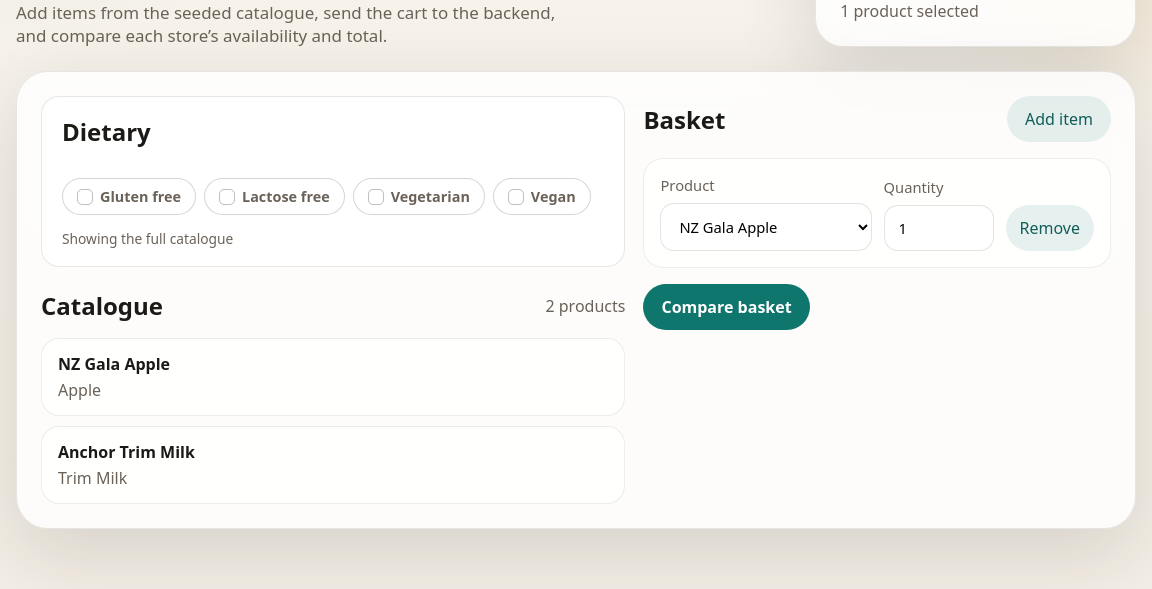
Test: basket comparison › shows the error returned by the server when the comparison fails
The width and height of the screenshot is (1152, 589).
(page scrolled)
Expected: the text "Apple" is shown, [58, 379, 101, 401]
Step 1. Click the button "Compare basket" → [726, 307], box [643, 284, 810, 330]
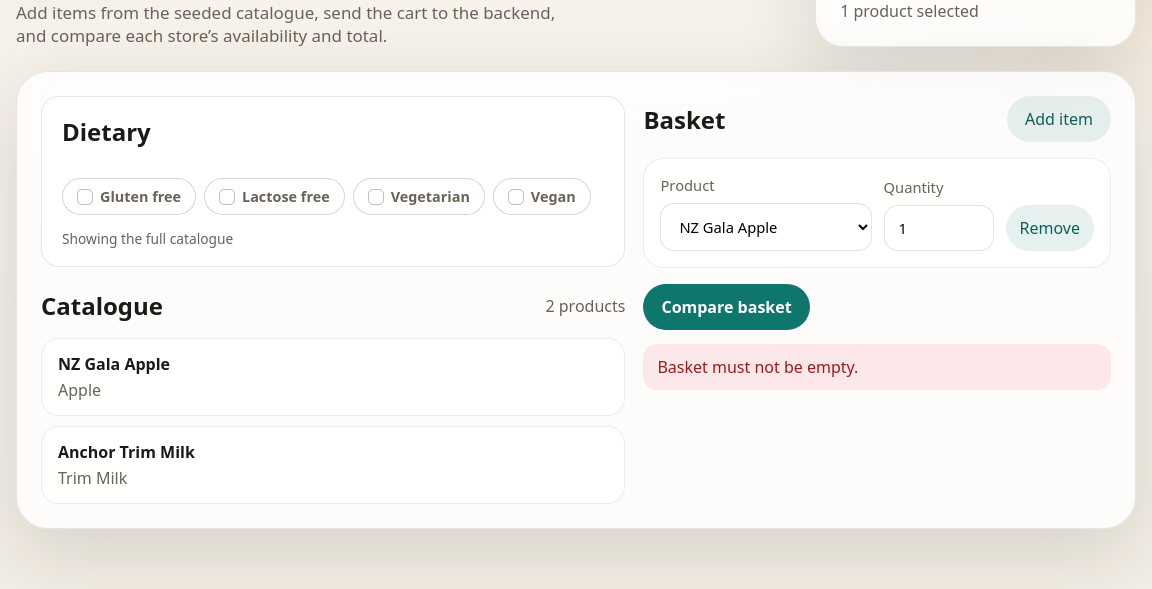
Expected: the text "Basket must not be empty." is shown, [643, 344, 1111, 390]
